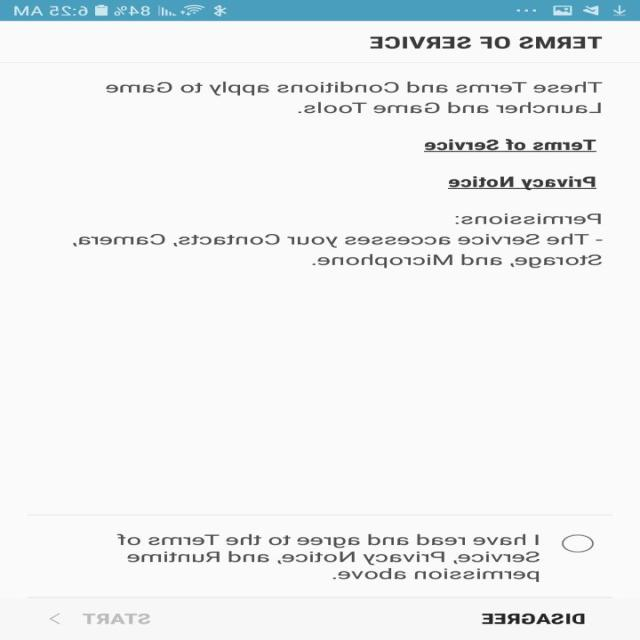Icon: (50, 612, 61, 624)
Text: (118, 533, 540, 582), (74, 233, 604, 268), (107, 81, 602, 114), (370, 36, 602, 49), (423, 139, 598, 152), (448, 176, 598, 190), (455, 213, 602, 225), (482, 612, 585, 624), (82, 612, 152, 624)
